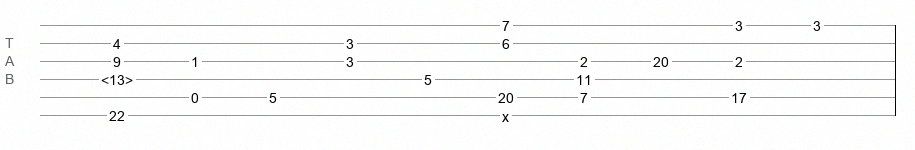0: (191, 90, 199, 100)
1: (191, 54, 199, 64)
11: (576, 72, 592, 82)
17: (731, 90, 747, 100)
2: (580, 54, 588, 64), (735, 54, 743, 64)
20: (498, 90, 514, 100), (653, 54, 669, 64)
22: (109, 108, 125, 118)
3: (346, 36, 354, 46), (346, 54, 354, 64), (735, 18, 743, 28), (813, 18, 821, 28)
4: (113, 36, 121, 46)
5: (269, 90, 277, 100), (424, 72, 432, 82)
6: (502, 36, 510, 46)
7: (502, 18, 510, 28), (580, 90, 588, 100)
9: (113, 54, 121, 64)
harmonic: (101, 72, 133, 82)
x: (502, 109, 509, 117)
